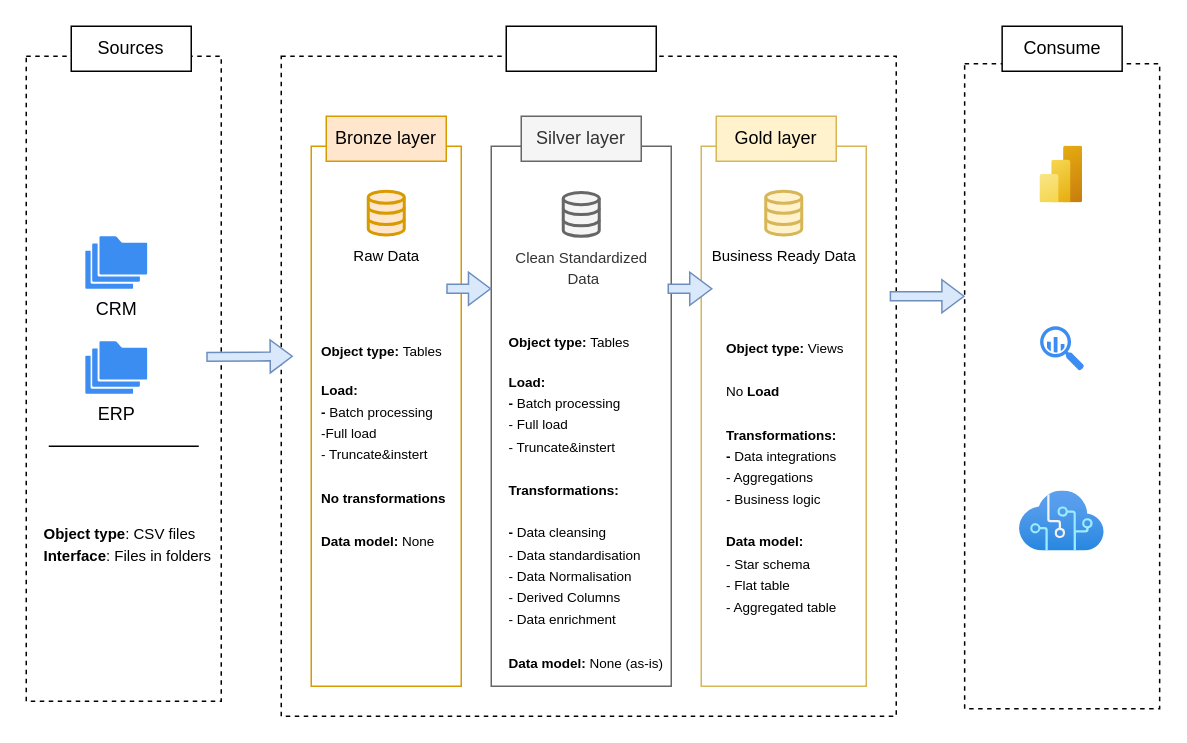
Some shapes in this 1187 by 743 pixel diagram are drawn without their labels. Each missing label, with the box of its shape:
Ad-Hoc SQLQueries: (1039, 326, 1083, 370)
BI & Reporting: (1039, 146, 1082, 202)
Data Warehouse: (505, 25, 656, 71)
Machine Learning: (1019, 490, 1104, 550)
